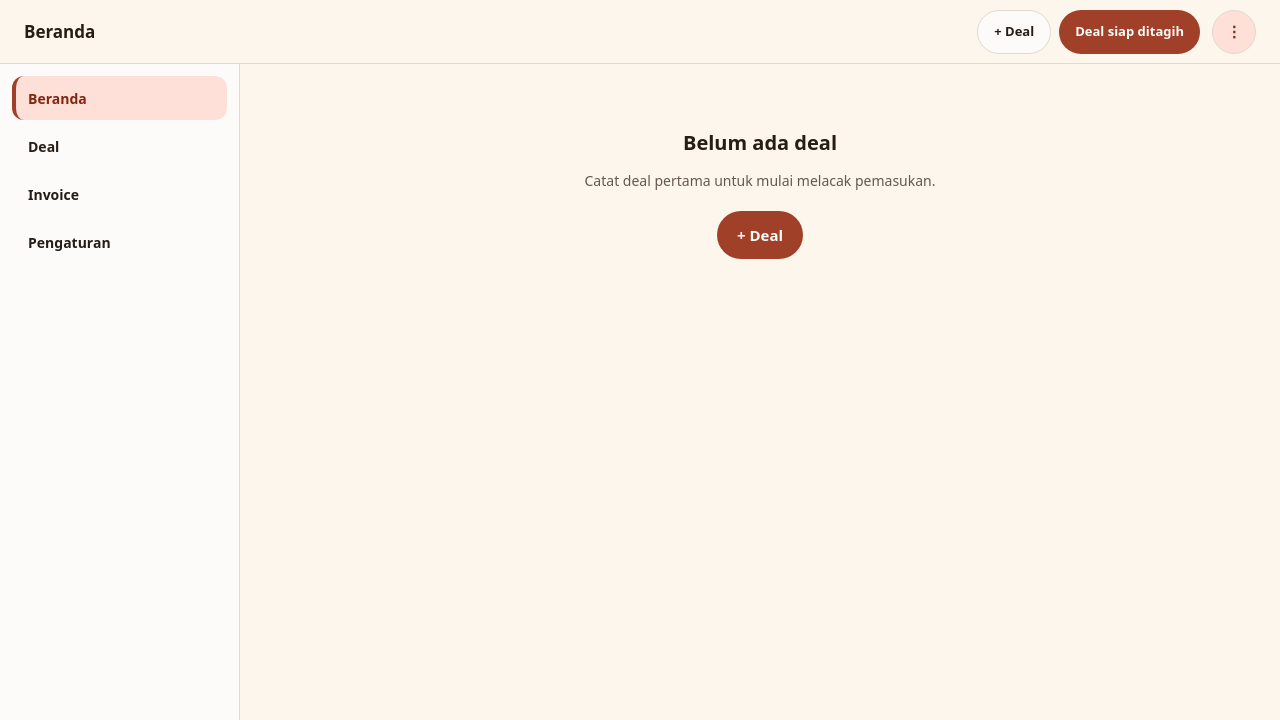
Test case: root protected page + shell integration › renders the dashboard under the layout's single LanguageProvider and the shell's own account menu
Expected: the link "Beranda" is shown, [12,76,227,120]
Click the button named "Menu akun".
click(1234, 32)  # box [1212,10,1256,54]
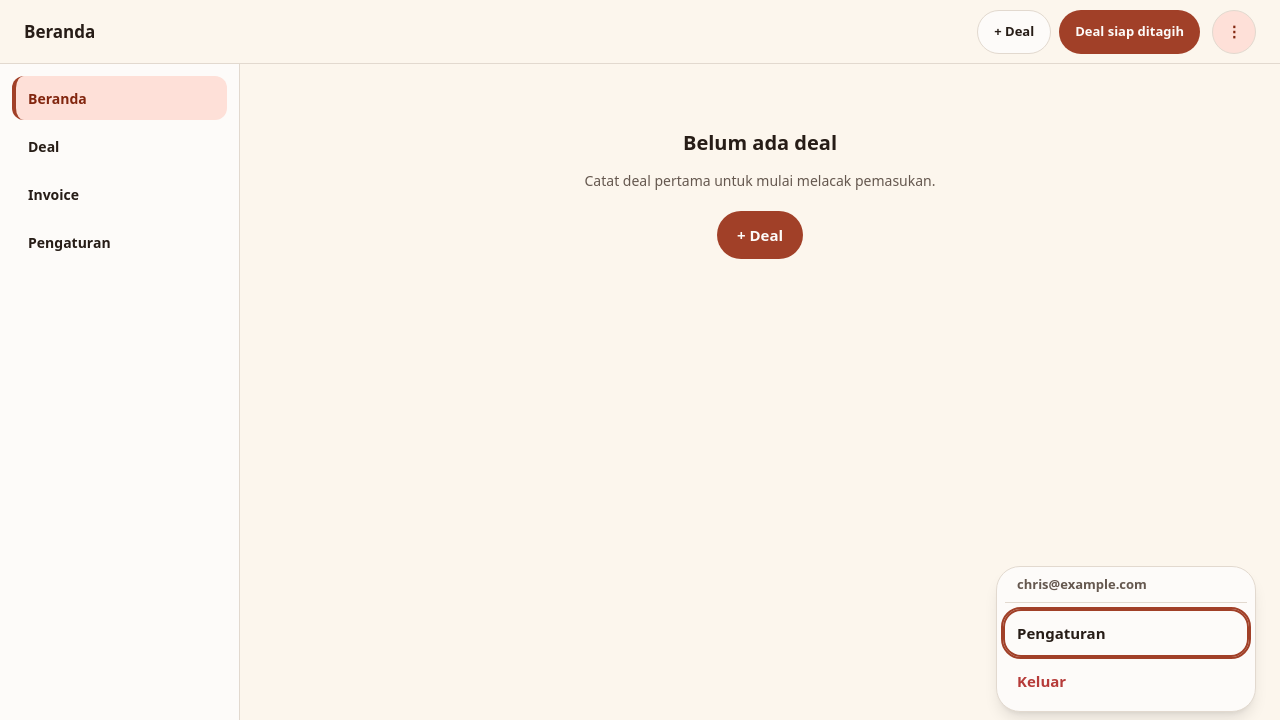
Expected: the menu item "Pengaturan" is shown, [1005,611,1247,655]
Expected: the menu item "Keluar" is shown, [1017,671,1066,691]
